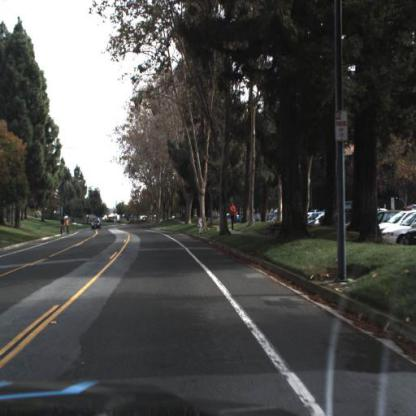biker: (62, 217, 66, 238)
car: (381, 210, 416, 248), (89, 217, 105, 233)
pedestrian: (230, 194, 239, 232), (66, 217, 73, 238)
